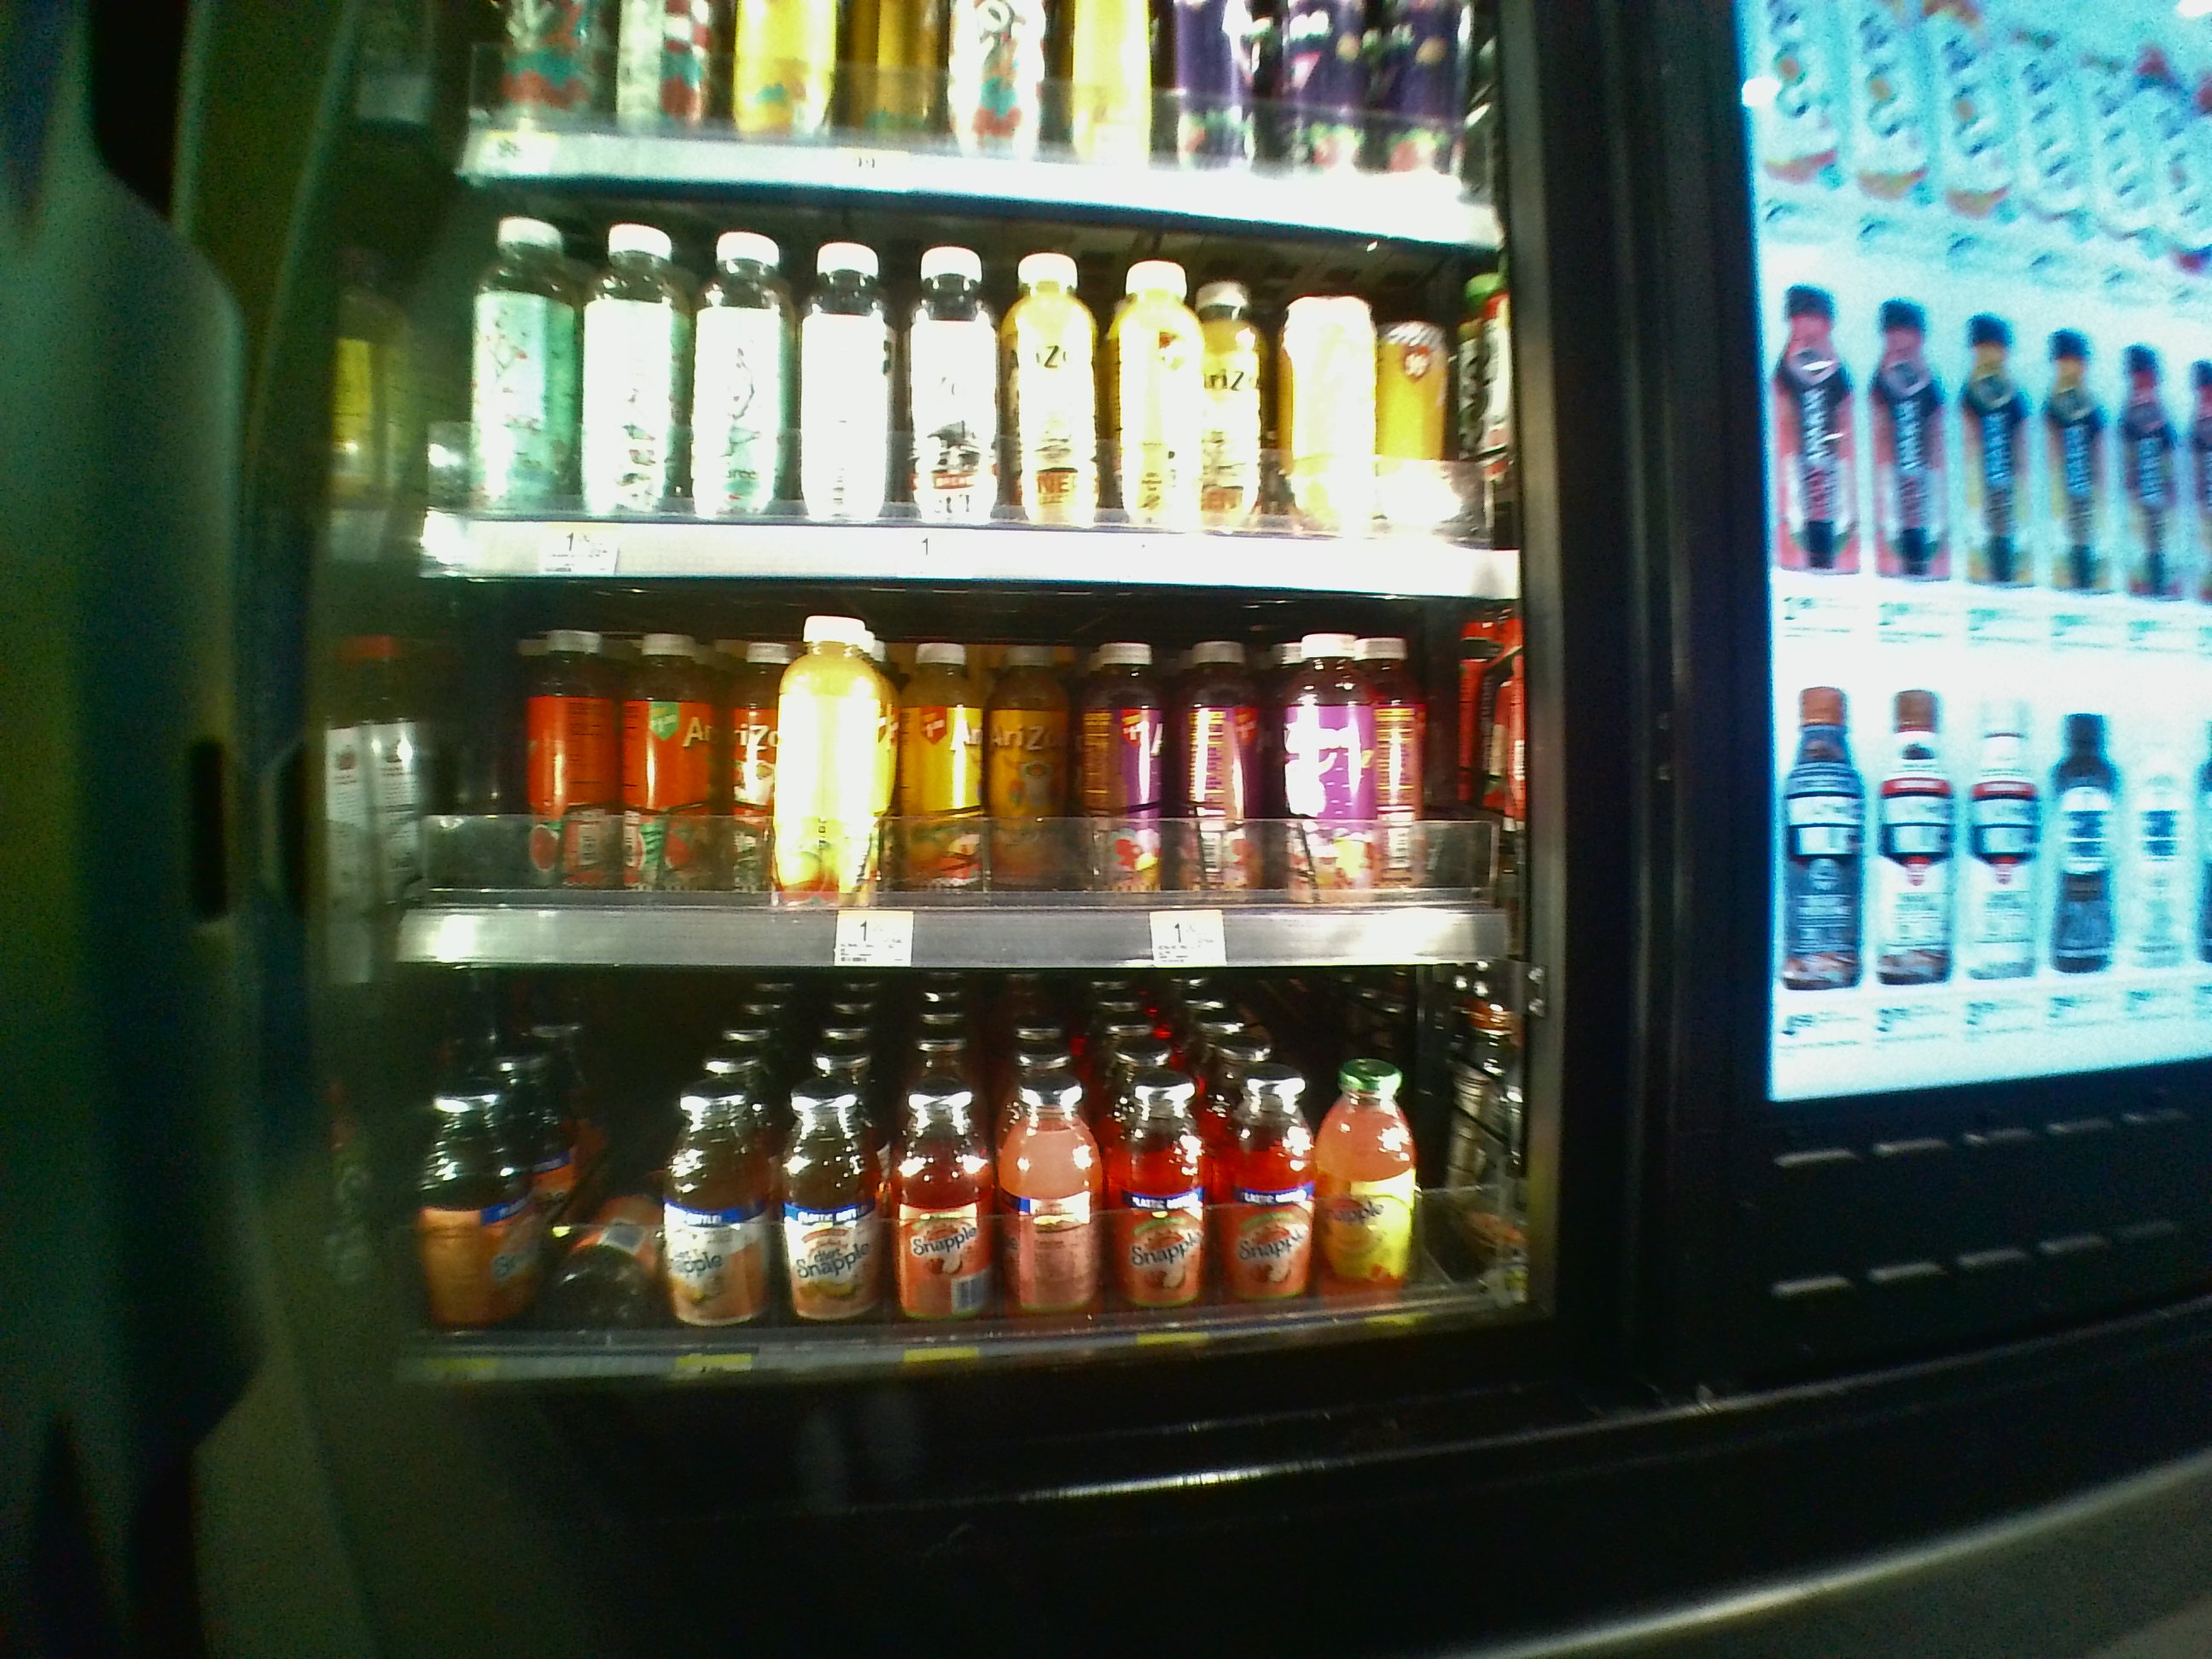shelf: (401, 983, 1541, 1401), (406, 579, 1526, 972)
